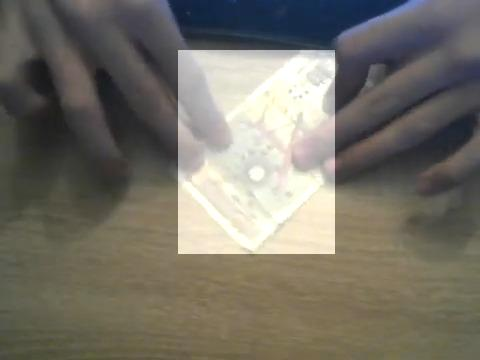10leva: (178, 50, 335, 254)
